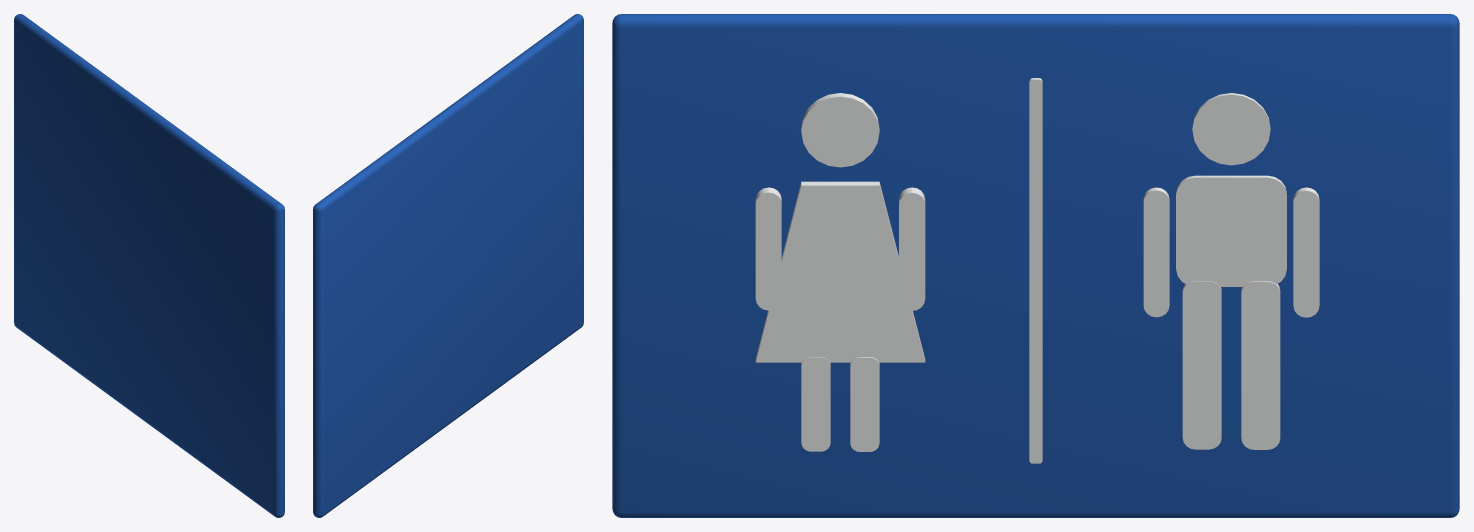
File: restroom-sign.glb
3 renders of one model, left to right at view 1: azimuth 30°, elevation 25°; view 2: azimuth 150°, elevation 25°; view 3: azimuth 270°, elevation 25°, orthographic. The views are drawn at different scales.
Visible parts, largest first — view 1: Restroom_Sign; view 2: Restroom_Sign; view 3: Restroom_Sign.
Part boxes in pixels (box(x1,y1,x2,y2)): Restroom_Sign: box(14, 14, 284, 517); Restroom_Sign: box(313, 14, 583, 517); Restroom_Sign: box(612, 14, 1459, 517).
Size of the model in its own units: 0.00995 by 0.17 by 0.26.
